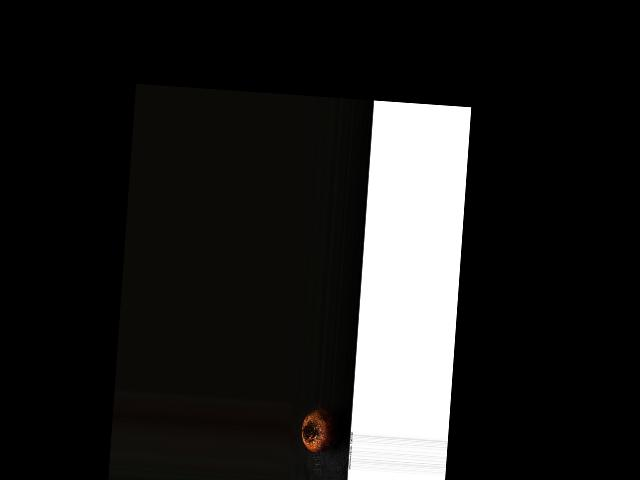beet: (300, 405, 342, 453)
